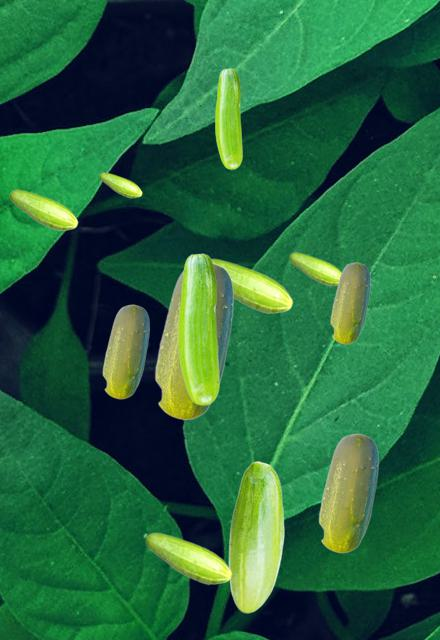cucumber: (154, 262, 232, 419), (228, 461, 283, 612), (318, 433, 377, 552), (178, 253, 218, 404), (145, 532, 231, 584), (212, 258, 292, 313), (102, 304, 148, 398), (330, 262, 369, 343), (9, 189, 77, 230), (215, 68, 241, 168), (289, 252, 340, 285), (99, 172, 141, 197)
